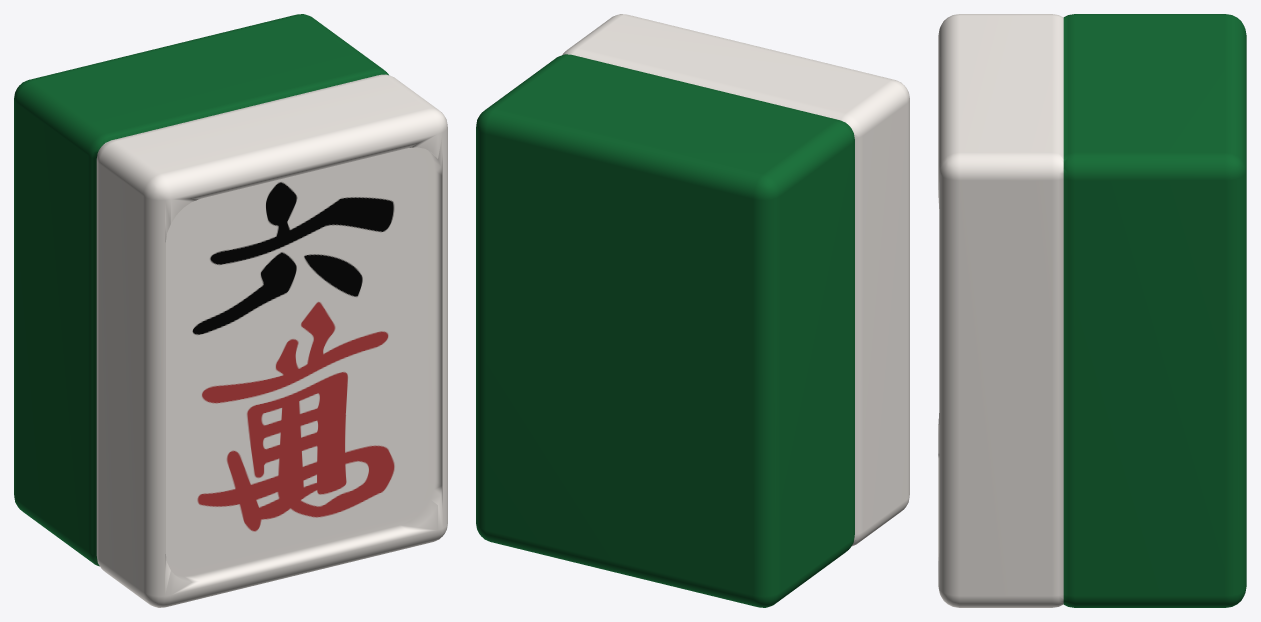
File: man6-21frvk9x.glb
3 views of the same model, side by side, from view 1: azimuth 30°, elevation 25°; view 2: azimuth 150°, elevation 25°; view 3: azimuth 270°, elevation 25° (orthographic). The views are drawn at different scales.
Visible parts, largest first — view 1: TileBody, FacePanel; view 2: TileBody; view 3: TileBody.
Part boxes in pixels (bbox=[...]): TileBody: bbox=[14, 14, 447, 607]; FacePanel: bbox=[165, 148, 428, 569]; TileBody: bbox=[476, 14, 909, 607]; TileBody: bbox=[938, 14, 1246, 607].
Bounding box in the file's own units: 19 × 26 × 16.
3 materials, 1 textured.
